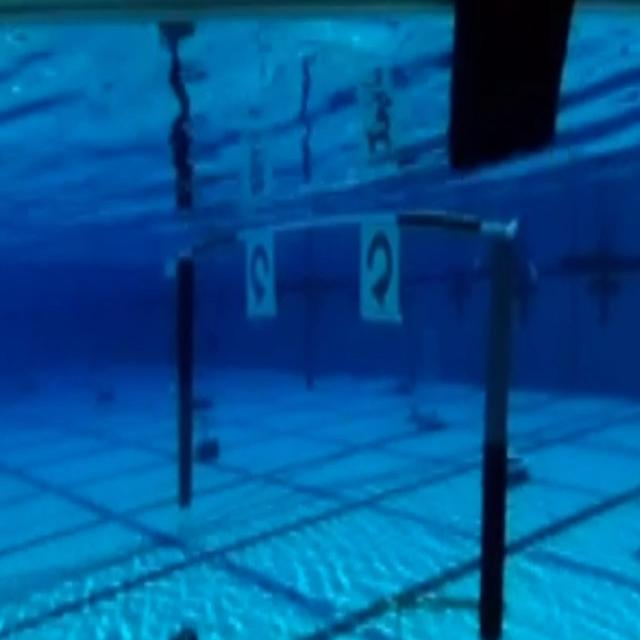Gate: (172, 243, 526, 637)
